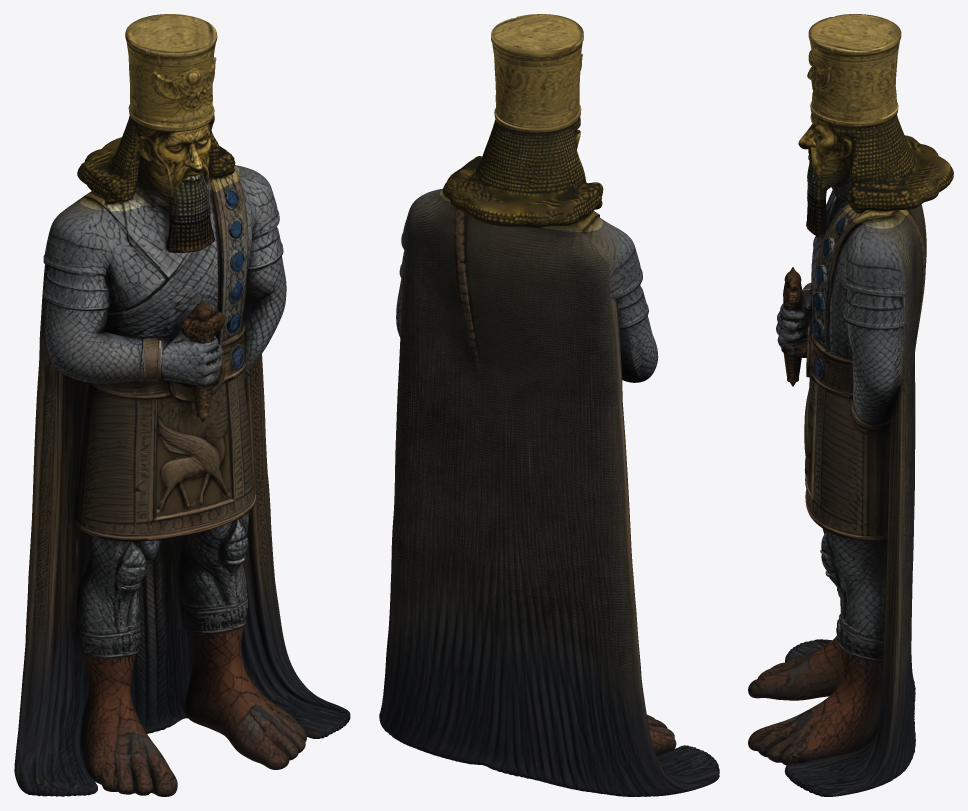
Rendered from statue_classic_lod.glb.
3 views of the same model, side by side, from view 1: azimuth 30°, elevation 25°; view 2: azimuth 150°, elevation 25°; view 3: azimuth 270°, elevation 25° (orthographic). The views are drawn at different scales.
Parts seen in each view (by area): view 1: chest_silver, belly_bronze, feet_clay, legs_iron, head_gold; view 2: belly_bronze, chest_silver, legs_iron, feet_clay, head_gold; view 3: chest_silver, head_gold, feet_clay, belly_bronze, legs_iron.
Part boxes in pixels (x1,y1,x2,y2): chest_silver: (39,165,286,384); belly_bronze: (31,325,277,548); feet_clay: (14,604,350,796); legs_iron: (24,480,278,668); head_gold: (77,14,239,215); belly_bronze: (393,350,633,577); chest_silver: (396,188,658,404); legs_iron: (387,520,644,704); feet_clay: (379,642,719,796); head_gold: (439,14,603,231); chest_silver: (776,190,926,399); head_gold: (798,14,953,228); feet_clay: (748,605,915,796); belly_bronze: (779,344,915,565); legs_iron: (820,519,914,689).
Bounding box in the file's own units: 0.5176 × 1.08 × 0.2934.
2 materials, 2 textured.
